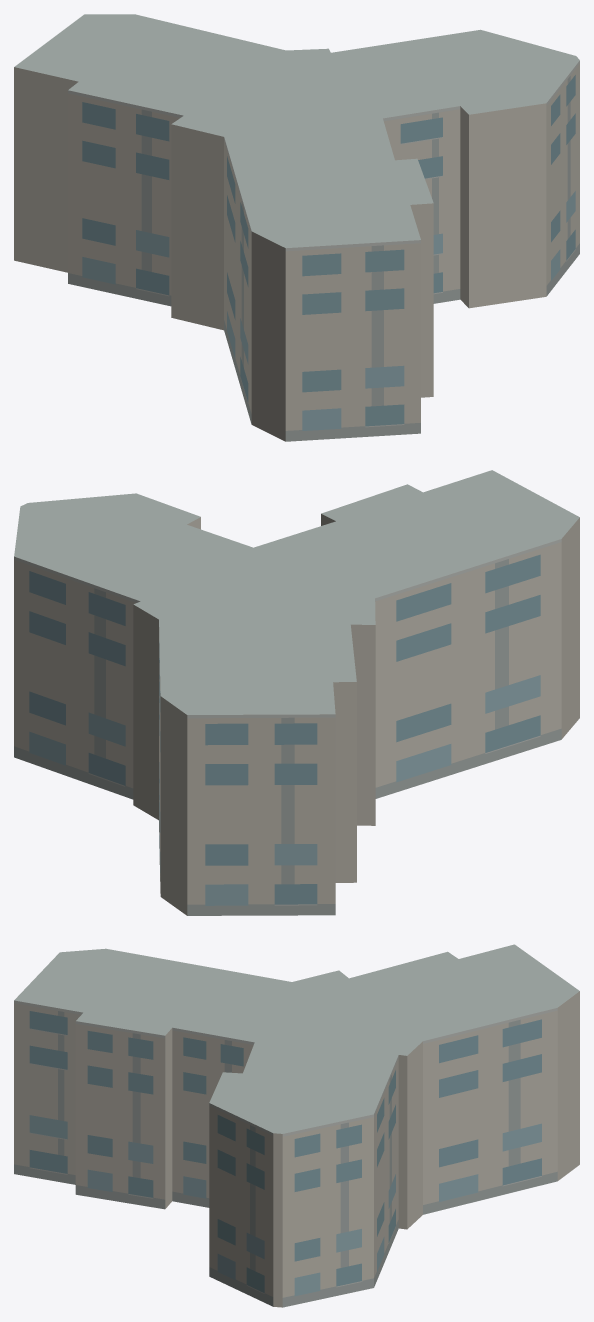
Rendered from survey-upis-33022864.glb.
The picture shows the model from 3 angles, top to bottom: view 1: azimuth 30°, elevation 25°; view 2: azimuth 150°, elevation 25°; view 3: azimuth 270°, elevation 25°; orthographic projection. The views are drawn at different scales.
Parts seen in each view (by area): view 1: survey-upis-33022864.tmp; view 2: survey-upis-33022864.tmp; view 3: survey-upis-33022864.tmp.
Part boxes in pixels (x1,y1,x2,y2): survey-upis-33022864.tmp: (14, 14, 579, 441); survey-upis-33022864.tmp: (14, 470, 579, 915); survey-upis-33022864.tmp: (14, 944, 579, 1307).
Bounding box in the file's own units: 35.71 × 15.25 × 45.05.
